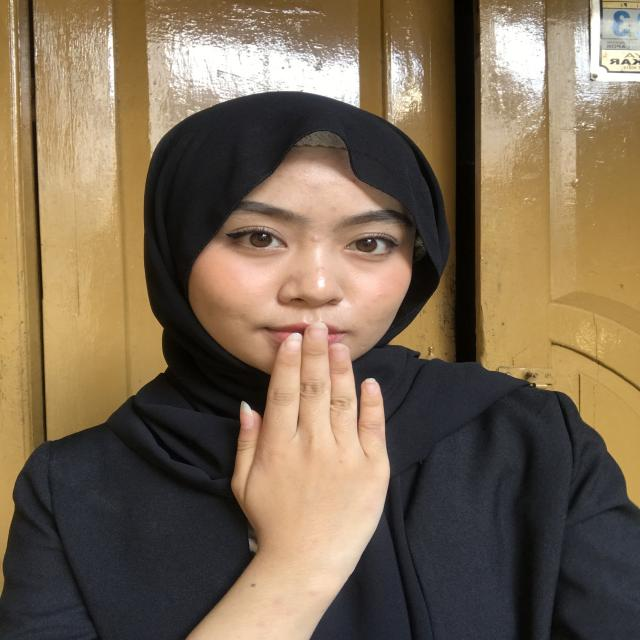ganteng: (216, 317, 416, 558)
